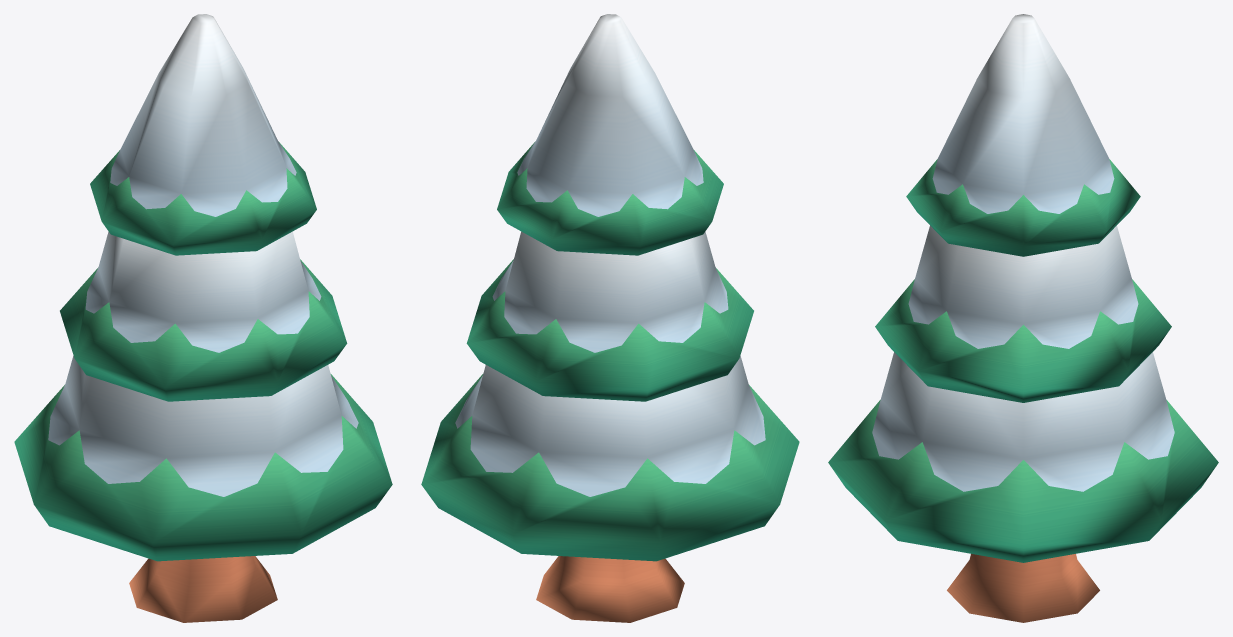
File: tree-snow-a_lev3.glb
3 renders of one model, left to right at view 1: azimuth 30°, elevation 25°; view 2: azimuth 150°, elevation 25°; view 3: azimuth 270°, elevation 25°, orthographic.
Visible parts, largest first — view 1: tree-snow-a_lev3; view 2: tree-snow-a_lev3; view 3: tree-snow-a_lev3.
Boxes of the visible parts, x1=… form: tree-snow-a_lev3: x1=14, y1=14, x2=392, y2=622; tree-snow-a_lev3: x1=421, y1=14, x2=799, y2=622; tree-snow-a_lev3: x1=828, y1=14, x2=1218, y2=622.
Size of the model in its own units: 1.19 by 1.92 by 1.19.
Materials: 1 (1 with a texture image).
